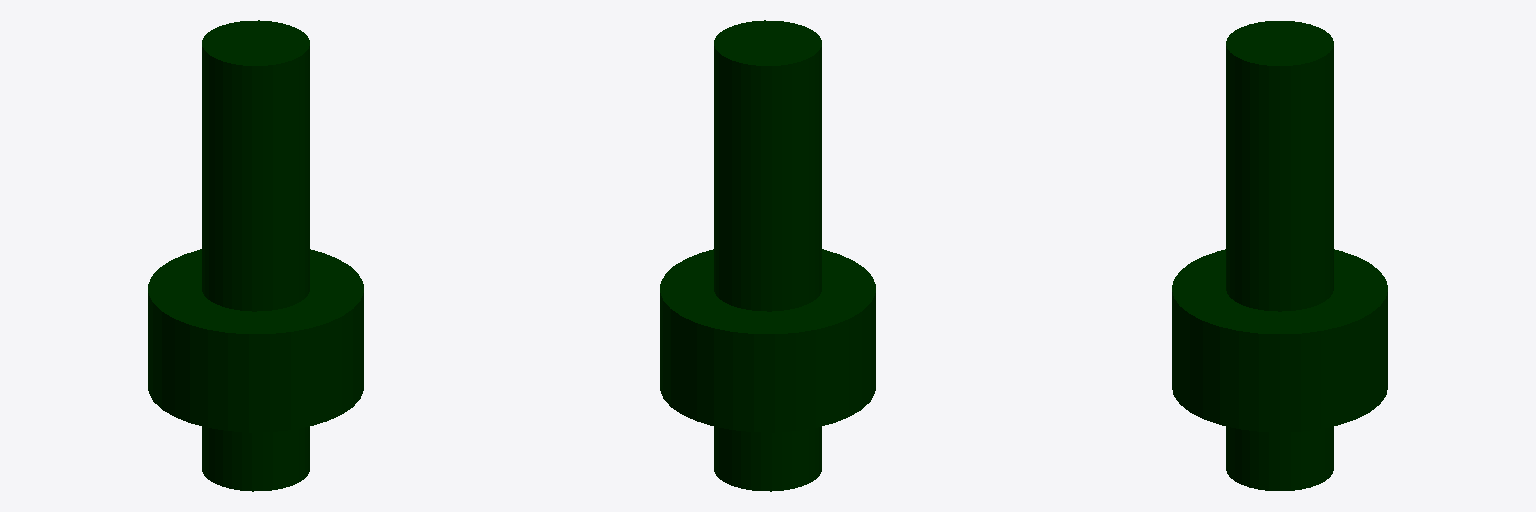
URDF robot description (robot):
<?xml version='1.0'?>
<robot>
  <link name="base_link">
    <visual>
     <geometry>
       <mesh filename="package://ros_ship_description/world/buoy/mesh/GREEN_BUOY.dae"/>
     </geometry>
   </visual>
   <collision name="base_link_collision">
     <geometry>
       <mesh filename="package://ros_ship_description/world/buoy/mesh/GREEN_BUOY.dae"/>
     </geometry>
   </collision>
   <inertial>
     <mass value="40"/>
     <inertia ixx="50" ixy="0.00" ixz="0" iyy="50" iyz="0.00" izz="0.1"/>
   </inertial>
  </link>

  <joint name="base_link_joint" type="fixed">
    <origin xyz="0 0 0.1"/>
    <parent link="top_link"/>
    <child link="base_link"/>
  </joint>

  <link name="top_link">
    <inertial>
      <mass value="10"/>
      <inertia ixx="50" ixy="0.00" ixz="0" iyy="50" iyz="0.00" izz="0.1"/>
    </inertial>
  </link>

  <gazebo>
    <plugin name="simple_buoyancy" filename="libsimple_buoyancy_plugin.so">
      <target_link>top_link</target_link>
      <cob_x>0</cob_x>
      <cob_y>0</cob_y>
      <cob_z>0</cob_z>
      <bbox_x>0.6</bbox_x>
      <bbox_y>0.6</bbox_y>
      <bbox_z>0.5</bbox_z>
      <publish_data>false</publish_data>
    </plugin>
  </gazebo>

</robot>

--- Facts derived from the render (not from the file) ---
Views: 3 orthographic renders of the robot side by side, from view 1: azimuth 30°, elevation 25°; view 2: azimuth 150°, elevation 25°; view 3: azimuth 270°, elevation 25°.
Model robot with 2 links and 1 joints (1 fixed), rooted at top_link, posed every joint at zero.
Visible links, largest first — view 1: base_link; view 2: base_link; view 3: base_link.
Boxes of the visible links, left/top/right/bottom form: base_link: left=148, top=20, right=363, bottom=491; base_link: left=660, top=20, right=875, bottom=491; base_link: left=1172, top=21, right=1387, bottom=490.
Bounding box of the posed robot: 1.2 × 1.2 × 2.6 m (x, y, z).
Meshes: 1 distinct files referenced, 1 mesh visuals loaded (1 Collada DAE).